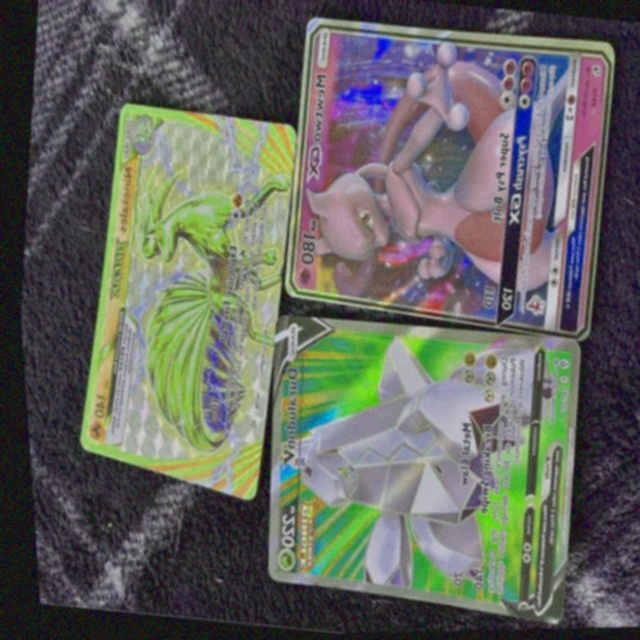card: (279, 17, 613, 344), (257, 314, 574, 628), (73, 104, 294, 502)
